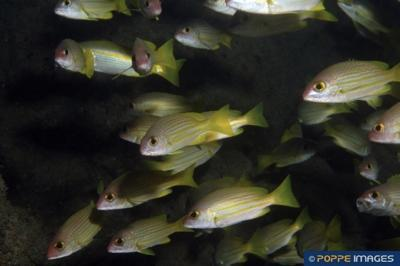Lutjanidae -Snappers-: (181, 169, 302, 228), (138, 101, 235, 159), (91, 163, 199, 209), (298, 61, 398, 108), (45, 204, 117, 259), (106, 217, 196, 259), (125, 32, 181, 77), (46, 34, 98, 80)
